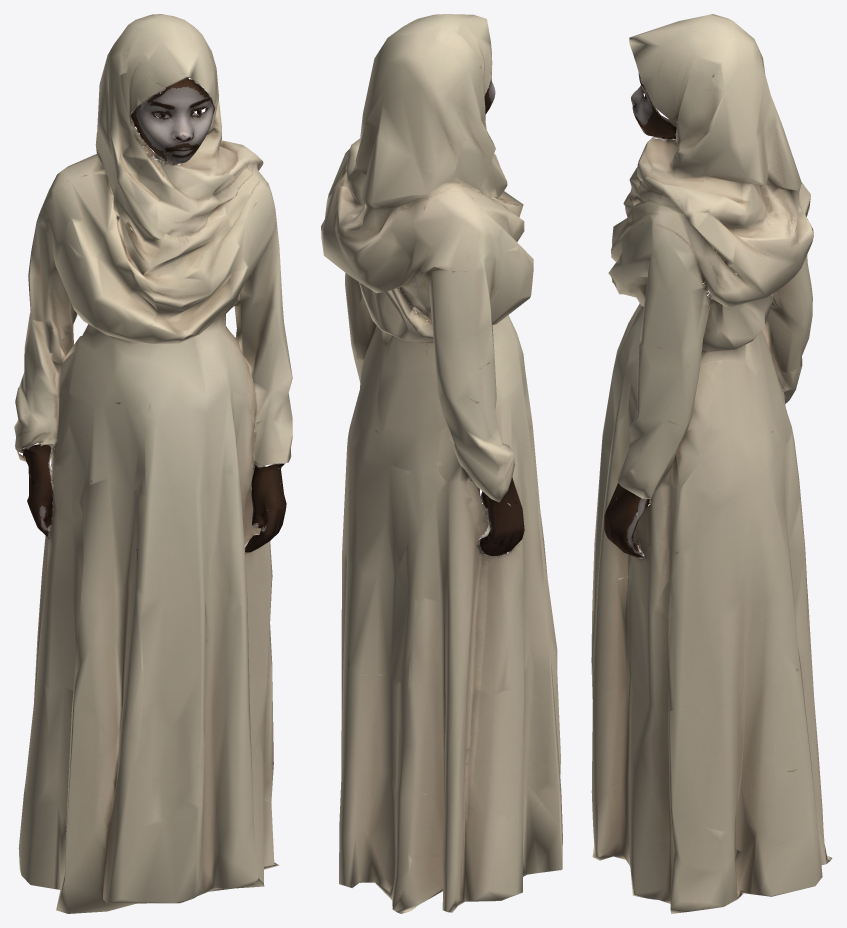
The model's file is woman3.glb.
3 renders of one model, left to right at view 1: azimuth 30°, elevation 25°; view 2: azimuth 150°, elevation 25°; view 3: azimuth 270°, elevation 25°, orthographic. The views are drawn at different scales.
Parts seen in each view (by area): view 1: cloth, skin; view 2: cloth, skin; view 3: cloth, skin.
Boxes of the visible parts, x1,y1,x2,y2 form: cloth: (14,14,292,913); skin: (20,78,286,552); cloth: (321,14,562,913); skin: (472,75,524,556); cloth: (591,14,832,913); skin: (604,73,784,558).
Size of the model in its own units: 0.4317 by 1.62 by 0.4147.
Materials: 2 (2 with a texture image).
